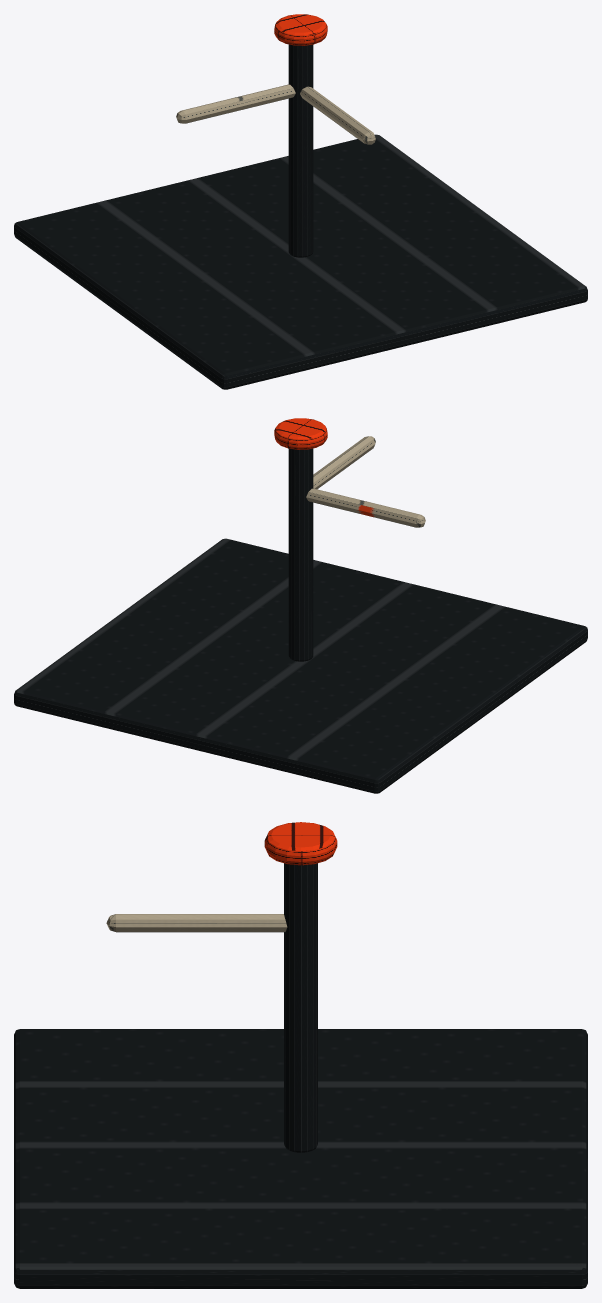
File: roof_living_comms_mast.glb
3 renders of one model, top to bottom at view 1: azimuth 30°, elevation 25°; view 2: azimuth 150°, elevation 25°; view 3: azimuth 270°, elevation 25°, orthographic. The views are drawn at different scales.
Parts seen in each view (by area): view 1: Removable roof mounting plate, Mast, Cross aerial, Antenna cap, Cross aerial.001; view 2: Removable roof mounting plate, Mast, Cross aerial, Antenna cap, Cross aerial.001; view 3: Removable roof mounting plate, Mast, Cross aerial.001, Antenna cap.
Part boxes in pixels (bbox=[...]): Removable roof mounting plate: bbox=[14, 134, 587, 389]; Mast: bbox=[288, 44, 313, 257]; Cross aerial: bbox=[176, 84, 295, 123]; Antenna cap: bbox=[274, 14, 327, 45]; Cross aerial.001: bbox=[300, 86, 375, 144]; Removable roof mounting plate: bbox=[14, 538, 587, 793]; Mast: bbox=[288, 448, 313, 661]; Cross aerial: bbox=[306, 488, 425, 527]; Antenna cap: bbox=[274, 418, 327, 449]; Cross aerial.001: bbox=[313, 436, 375, 489]; Removable roof mounting plate: bbox=[14, 1029, 587, 1288]; Mast: bbox=[284, 863, 317, 1152]; Cross aerial.001: bbox=[106, 914, 287, 932]; Antenna cap: bbox=[264, 822, 337, 865].
Size of the model in its own units: 2.36 by 1.52 by 2.36.
3 materials, 3 textured.
